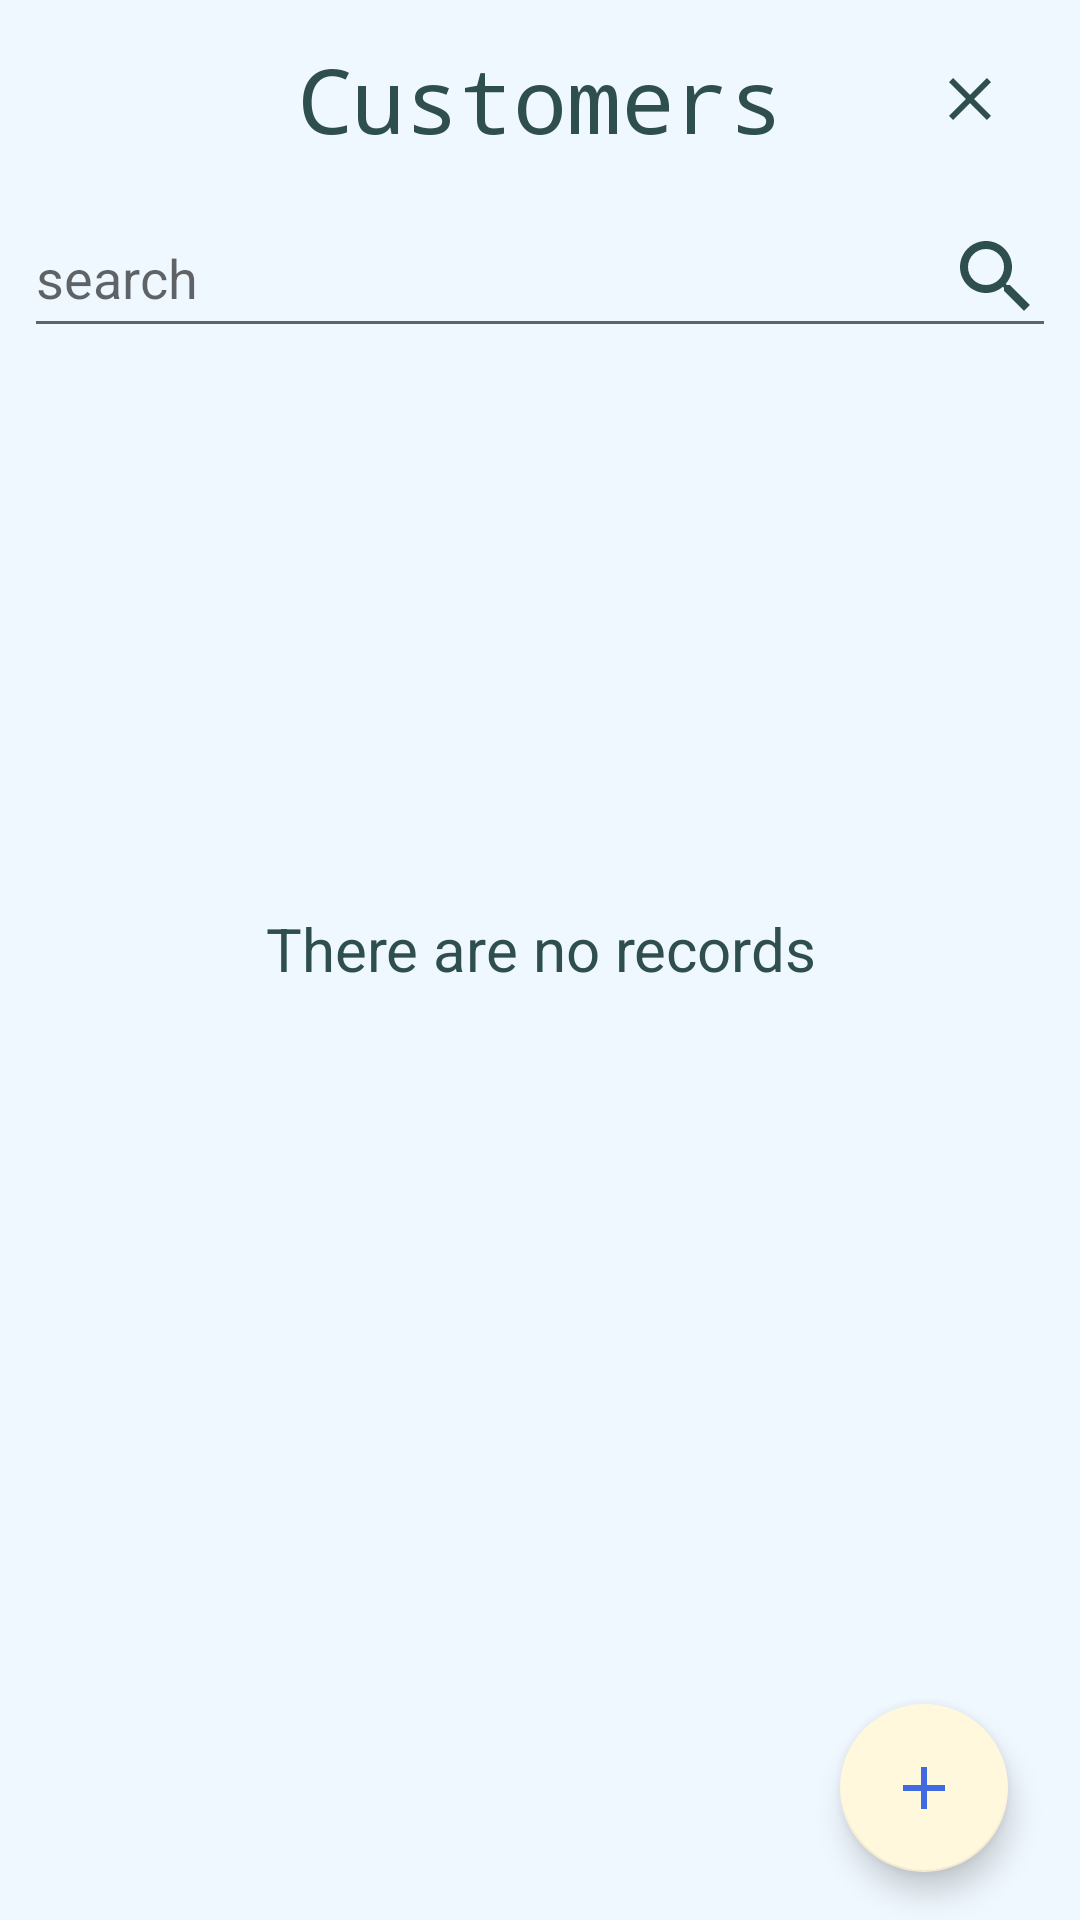

Locate icon controls on the screen. Image size 1080x1920, boxes as (x1,y1,x2,y2).
add customer: (840,1704,1008,1872)
close: (949,78,991,120)
